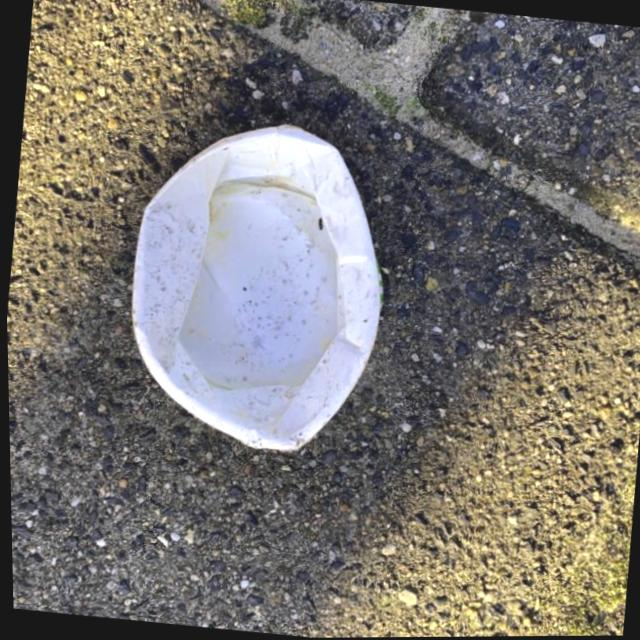Paper: (102, 103, 409, 464)
